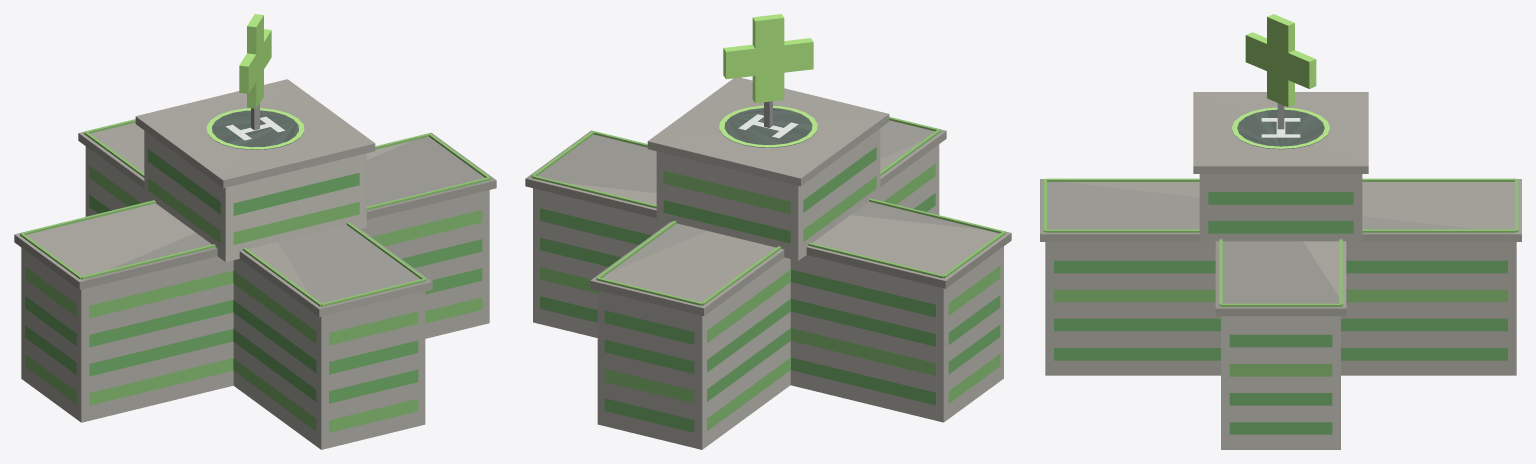
The model's file is solace_site.glb.
3 renders of one model, left to right at view 1: azimuth 30°, elevation 25°; view 2: azimuth 150°, elevation 25°; view 3: azimuth 270°, elevation 25°, orthographic.
Parts seen in each view (by area): view 1: solace_site__solid, solace_site__neon; view 2: solace_site__solid, solace_site__neon; view 3: solace_site__solid, solace_site__neon.
Boxes of the visible parts, left/top/right/bottom form: solace_site__solid: left=14, top=79, right=496, bottom=449; solace_site__neon: left=20, top=14, right=490, bottom=432; solace_site__solid: left=525, top=77, right=1011, bottom=449; solace_site__neon: left=531, top=14, right=1005, bottom=432; solace_site__solid: left=1040, top=92, right=1521, bottom=449; solace_site__neon: left=1043, top=14, right=1518, bottom=434.
Bounding box in the file's own units: 36 × 27.24 × 36.
